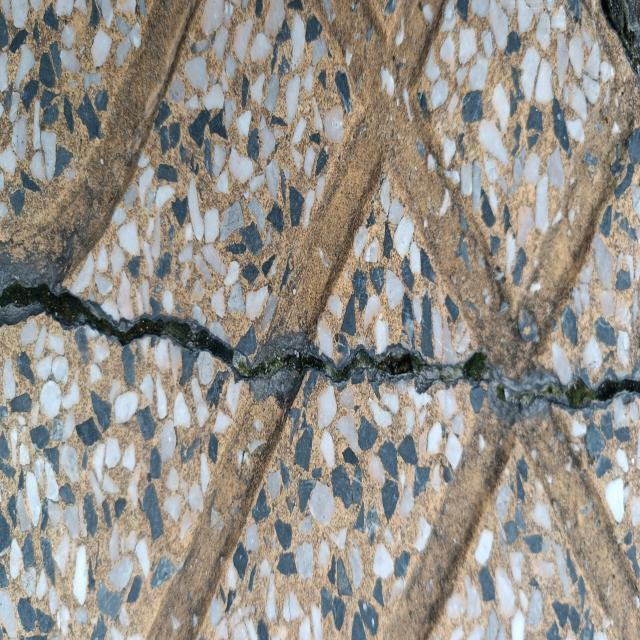horizontal crack: (0, 283, 640, 414)
